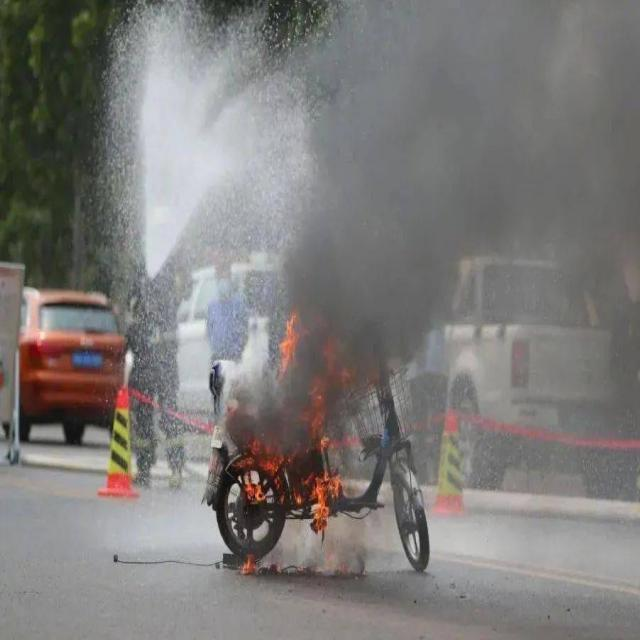Fire: (238, 430, 340, 537)
Smoke: (251, 0, 640, 426)
